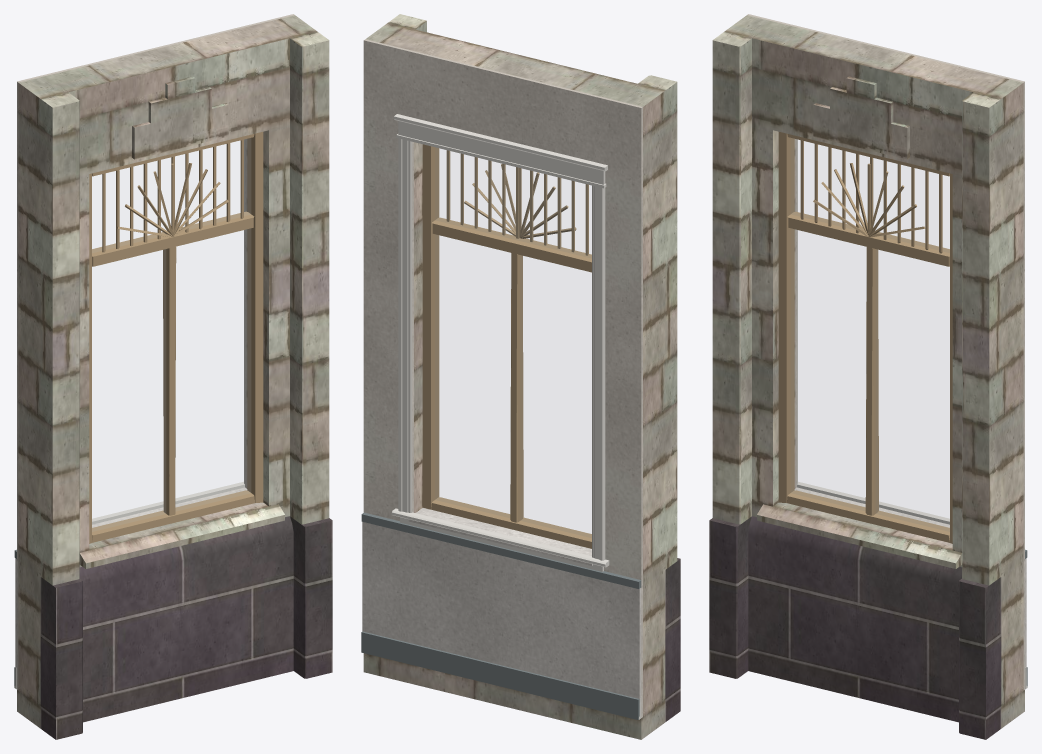
Rendered from g_win.glb.
The picture shows the model from 3 angles, left to right: view 1: azimuth 30°, elevation 25°; view 2: azimuth 150°, elevation 25°; view 3: azimuth 330°, elevation 25°; orthographic projection.
Parts seen in each view (by area): view 1: g_win_stone, folha_glass, g_win_granite, g_win_bronze, g_win_plaster, molduras, g_win_marble; view 2: folha_glass, g_win_plaster, g_win_stone, g_win_marble, molduras, g_win_bronze, g_win_marble_d, g_win_granite, folha_bronze; view 3: g_win_stone, folha_glass, g_win_granite, g_win_bronze, g_win_plaster, molduras, g_win_marble.
Part boxes in pixels (bbox=[...]): g_win_stone: bbox=[17, 15, 329, 728]; folha_glass: bbox=[92, 138, 250, 531]; g_win_granite: bbox=[40, 516, 332, 739]; g_win_bronze: bbox=[89, 132, 263, 543]; g_win_plaster: bbox=[17, 14, 294, 690]; molduras: bbox=[14, 139, 244, 689]; g_win_marble: bbox=[15, 487, 247, 672]; folha_glass: bbox=[435, 148, 591, 537]; g_win_plaster: bbox=[363, 39, 642, 717]; g_win_stone: bbox=[363, 14, 677, 739]; g_win_marble: bbox=[362, 508, 641, 715]; molduras: bbox=[391, 114, 641, 719]; g_win_bronze: bbox=[422, 144, 591, 548]; g_win_marble_d: bbox=[361, 512, 641, 719]; g_win_granite: bbox=[665, 558, 680, 721]; folha_bronze: bbox=[446, 150, 587, 255]; g_win_stone: bbox=[712, 15, 1024, 728]; folha_glass: bbox=[791, 138, 949, 531]; g_win_granite: bbox=[709, 516, 1001, 739]; g_win_bronze: bbox=[778, 132, 952, 543]; g_win_plaster: bbox=[747, 14, 1024, 690]; molduras: bbox=[797, 139, 1027, 689]; g_win_marble: bbox=[794, 487, 1026, 672].
Bounding box in the file's own units: 2 × 4.35 × 0.54.
8 materials, 4 textured.
